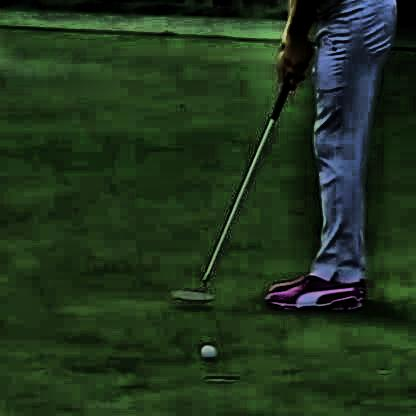golfball: (198, 344, 216, 360)
